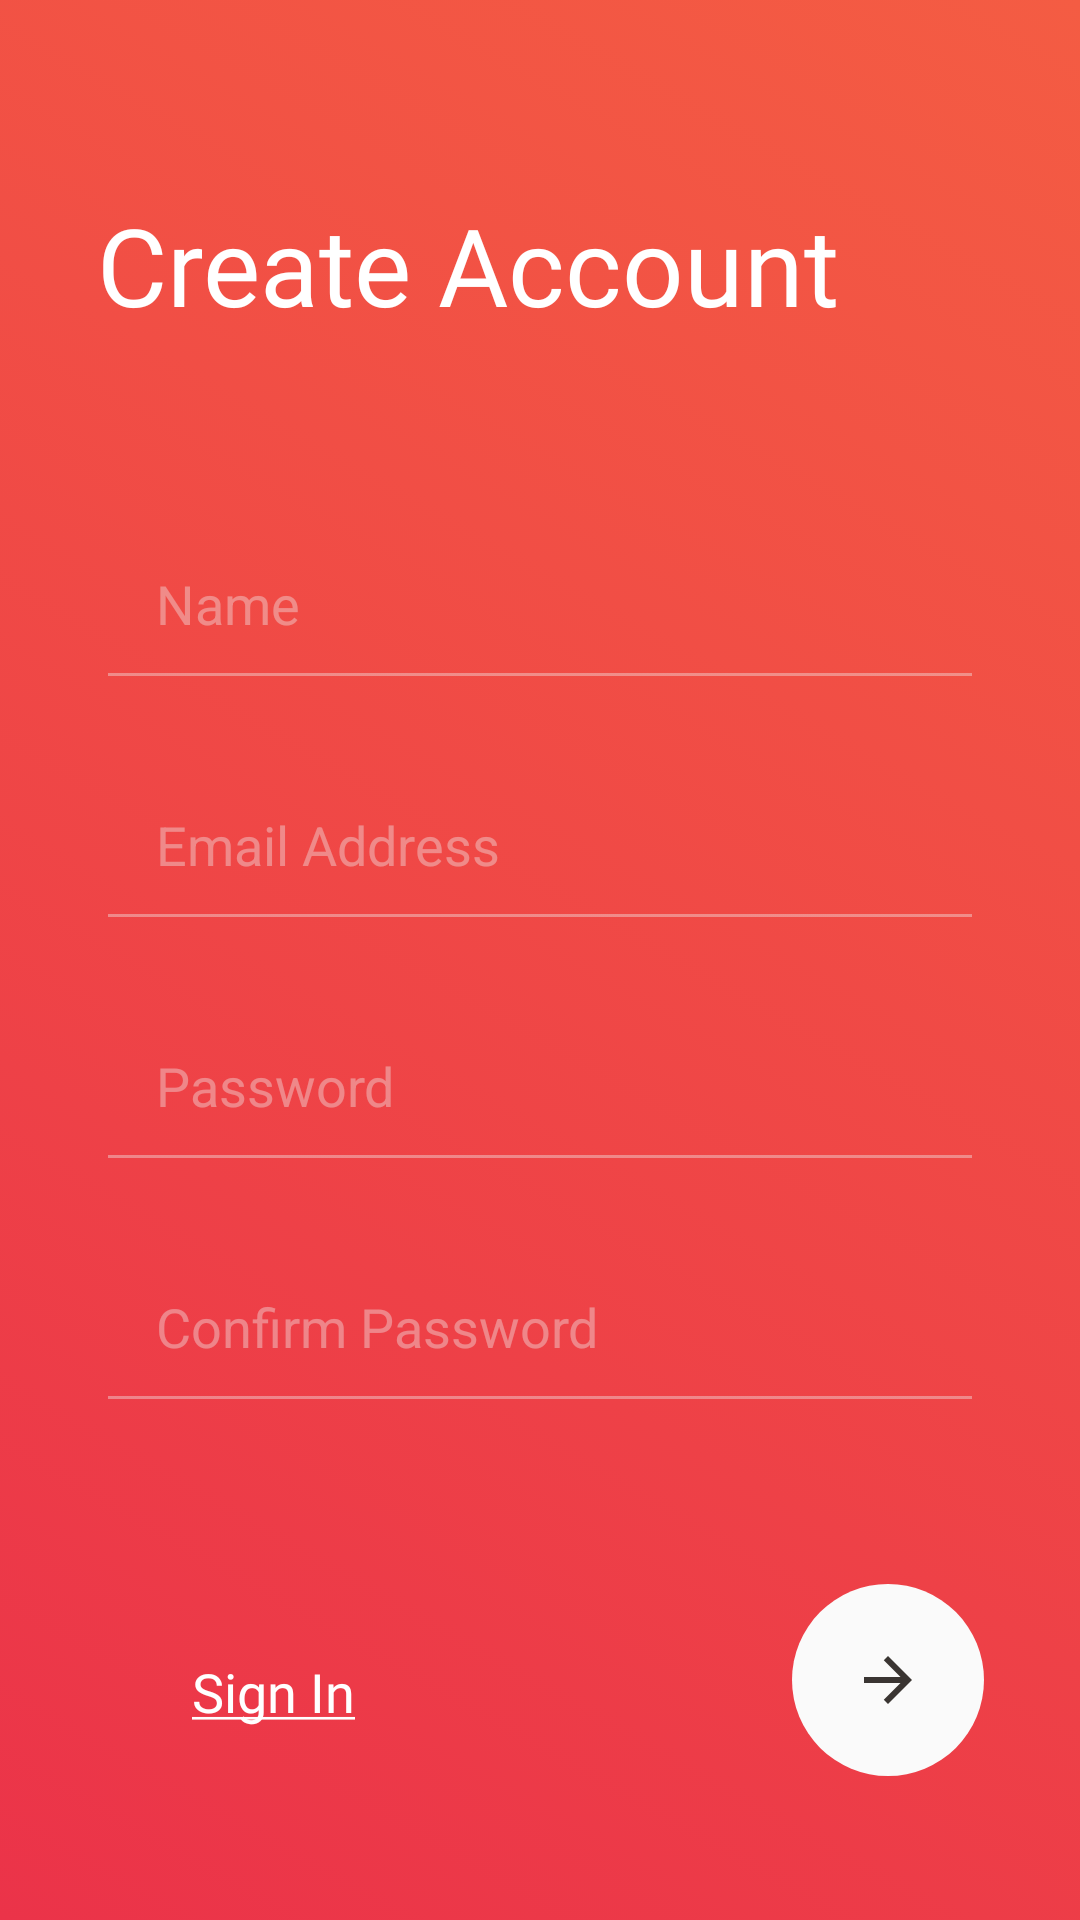

Icon bounding boxes for this 1080×1920 phone screenshot, format (x1, y1, x2, y2):
arrow right: (792, 1584, 984, 1776)
